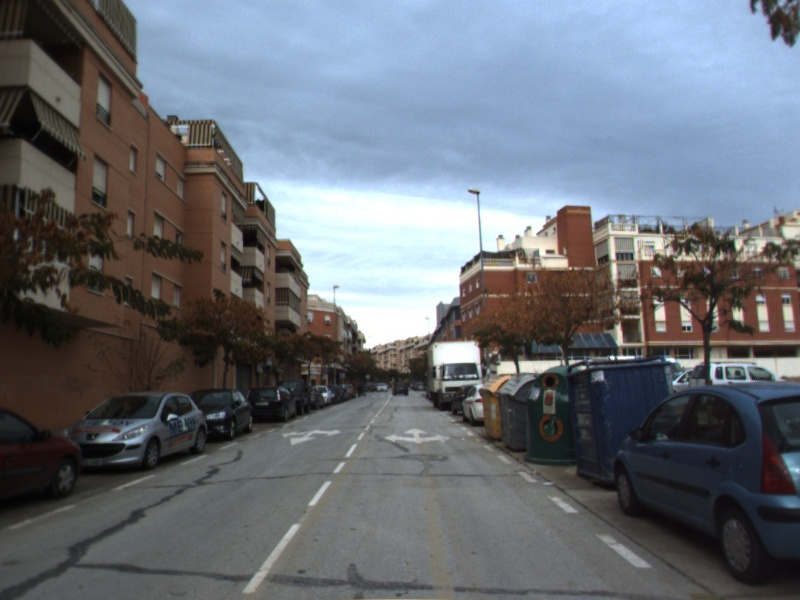STRAIGHT_LEFT_RIGHT: (382, 425, 452, 446)
